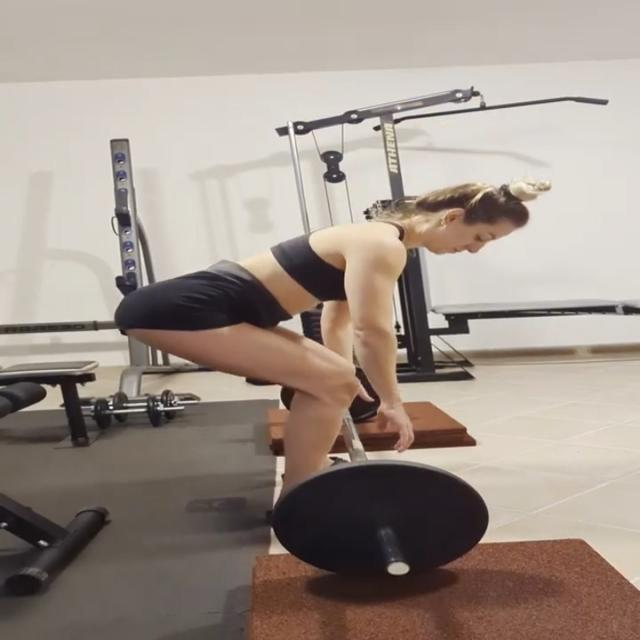barbell: (257, 458, 496, 592)
